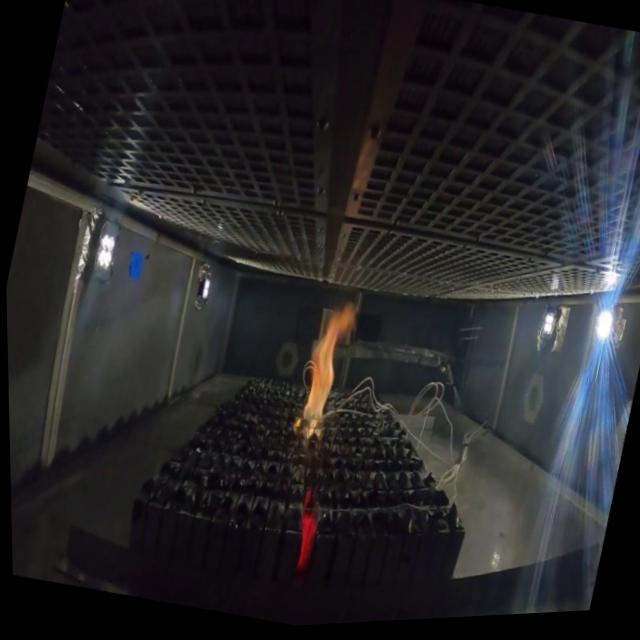fire: (284, 291, 365, 449)
